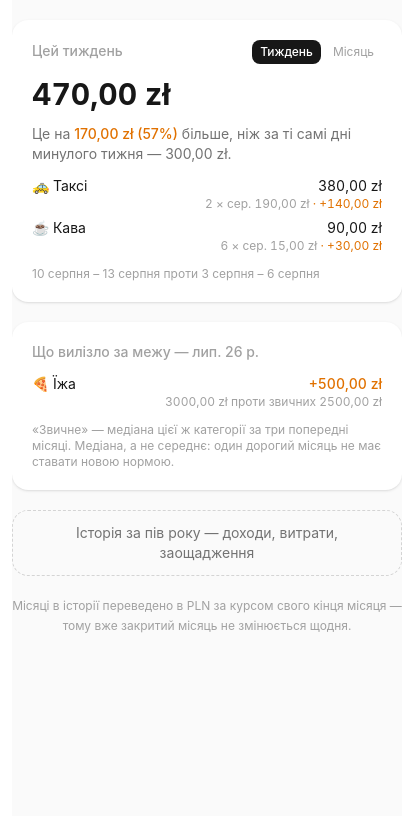
Test case: Stats › shows what the jars hold now, not only what moved
Click the button "Історія за пів року — доходи, витрати, заощадження": (207, 543) [12,510,402,576]
(page scrolled)
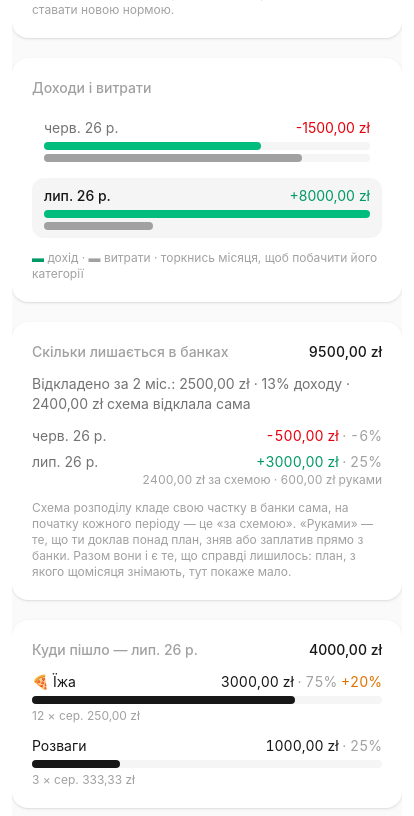
Now the text "9500,00 zł" is shown, box [309,342,382,362]
Now the text "Відкладено за 2 міс.: 2500,00 zł" is shown, box [32,374,382,414]
